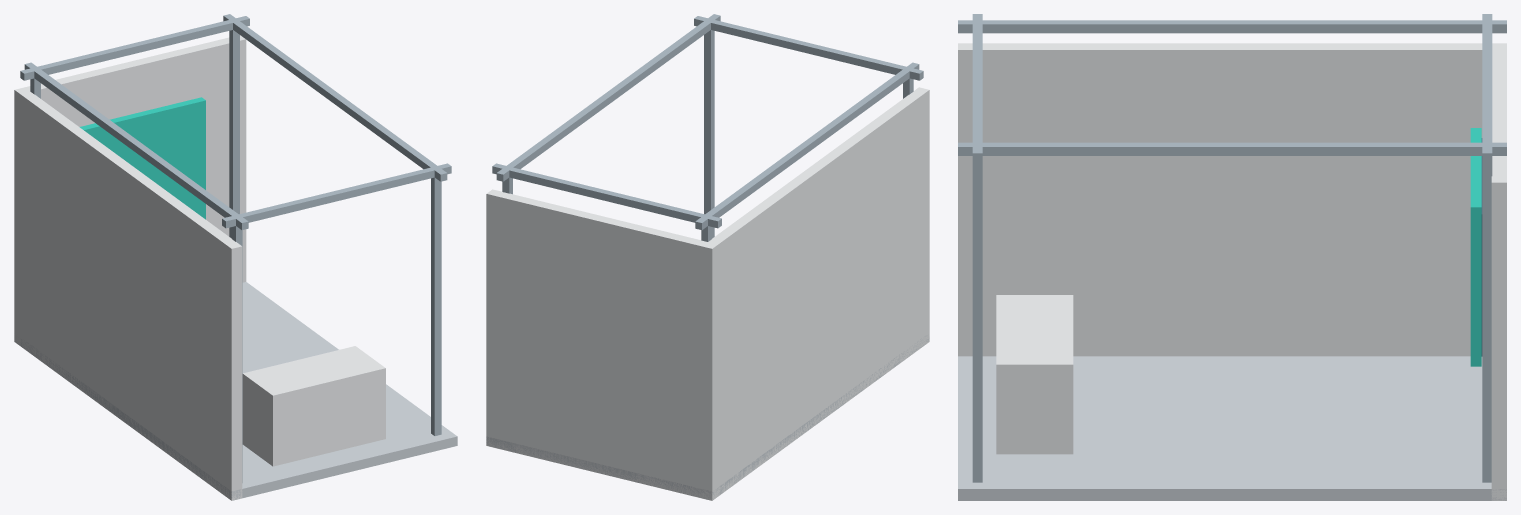
The picture shows the model from 3 angles, left to right: view 1: azimuth 30°, elevation 25°; view 2: azimuth 150°, elevation 25°; view 3: azimuth 270°, elevation 25°; orthographic projection. The views are drawn at different scales.
Parts seen in each view (by area): view 1: Exhibition Booth Concept; view 2: Exhibition Booth Concept; view 3: Exhibition Booth Concept.
Part boxes in pixels (x1,y1,x2,y2): Exhibition Booth Concept: [14, 14, 457, 500]; Exhibition Booth Concept: [486, 14, 929, 500]; Exhibition Booth Concept: [958, 14, 1506, 500].
Bounding box in the file's own units: 3 × 3.49 × 5.
